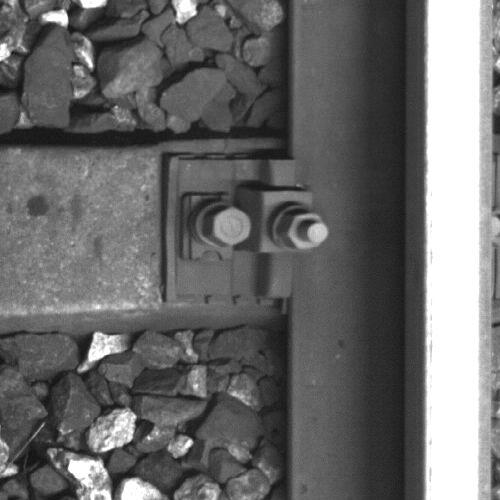kb: (173, 157, 333, 301)
nut: (204, 203, 253, 247), (279, 211, 331, 251)
rail: (426, 1, 492, 500)
tie_concr: (1, 147, 286, 310)
